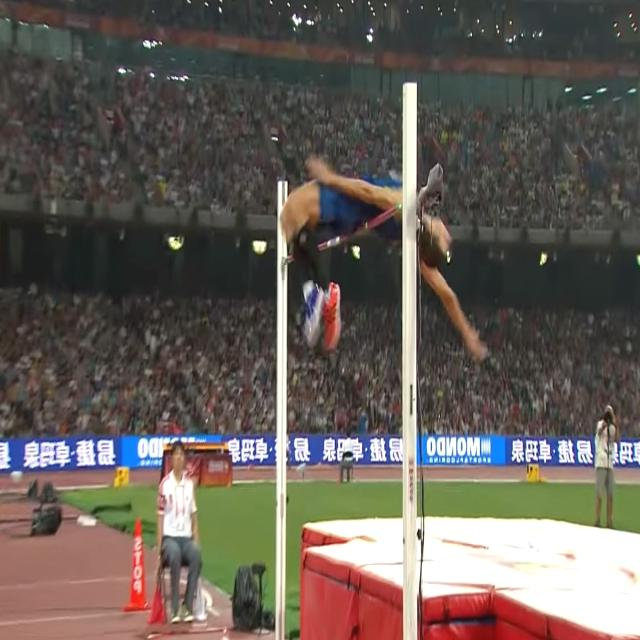jump: (278, 154, 493, 357)
